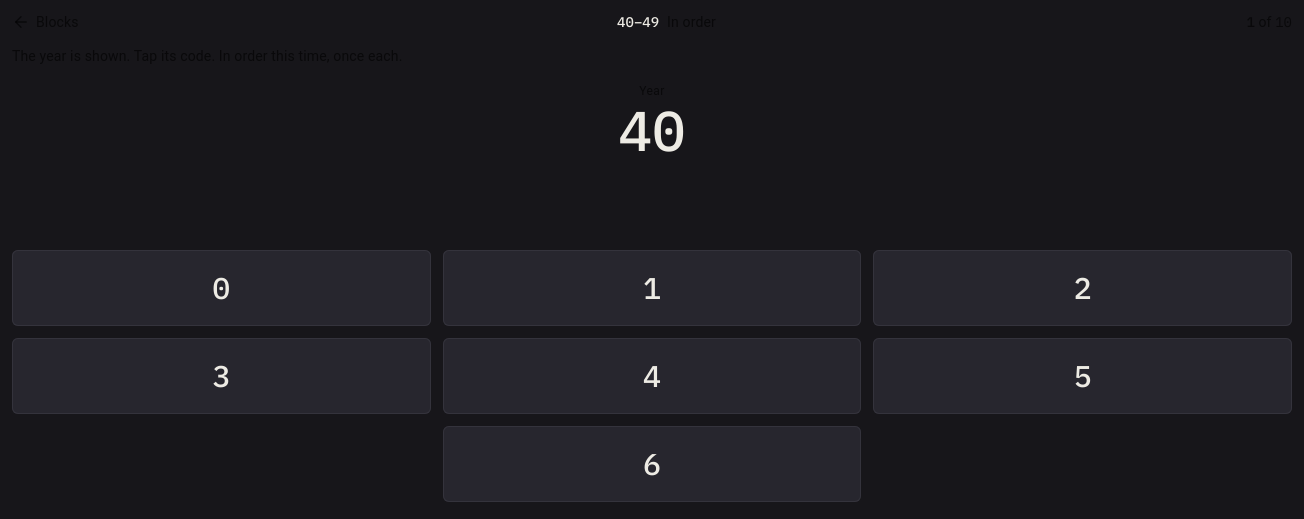
RecallPass › records every tap as a learn attempt without scheduling the item
Expected: the button "0" is shown, [12, 250, 431, 326]
Click the button "2" at point(1083, 288), box [873, 250, 1292, 326]
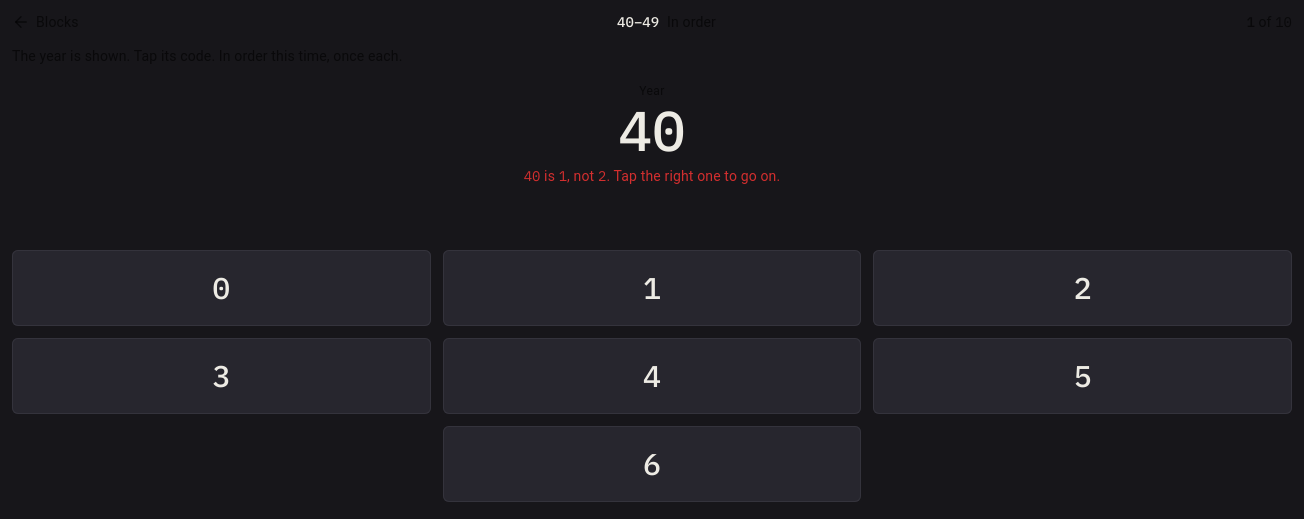
Click the button "1" at point(652, 288), box [443, 250, 861, 326]
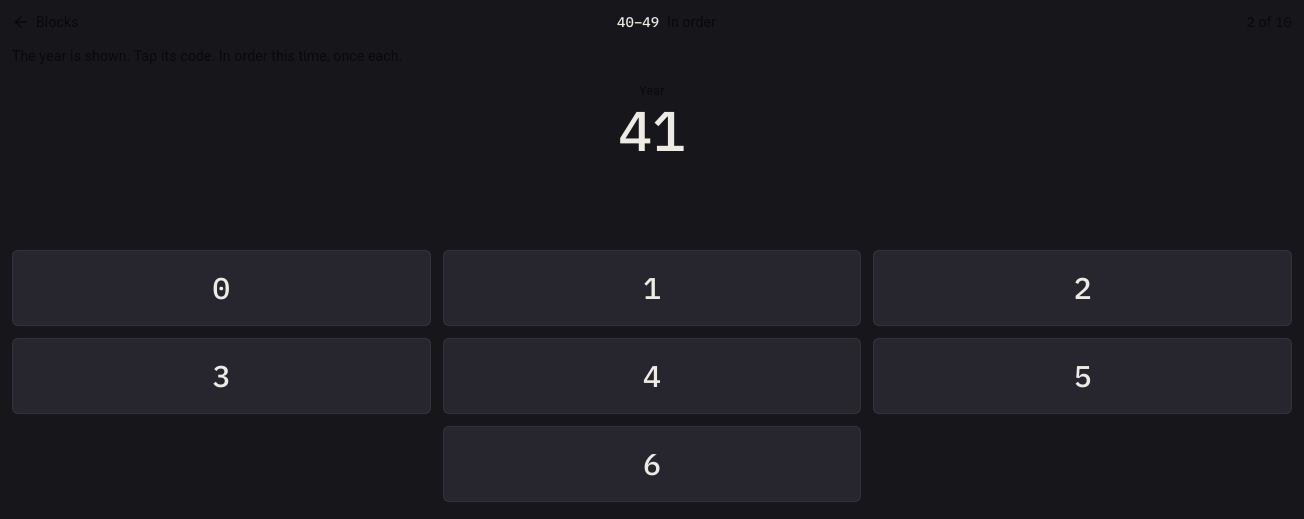
Result: the element with test id "recall-prompt" reads "4 1" at [618, 94, 686, 166]
